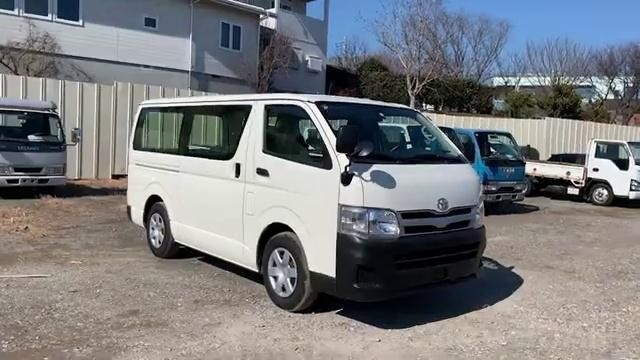van: (124, 95, 488, 293)
